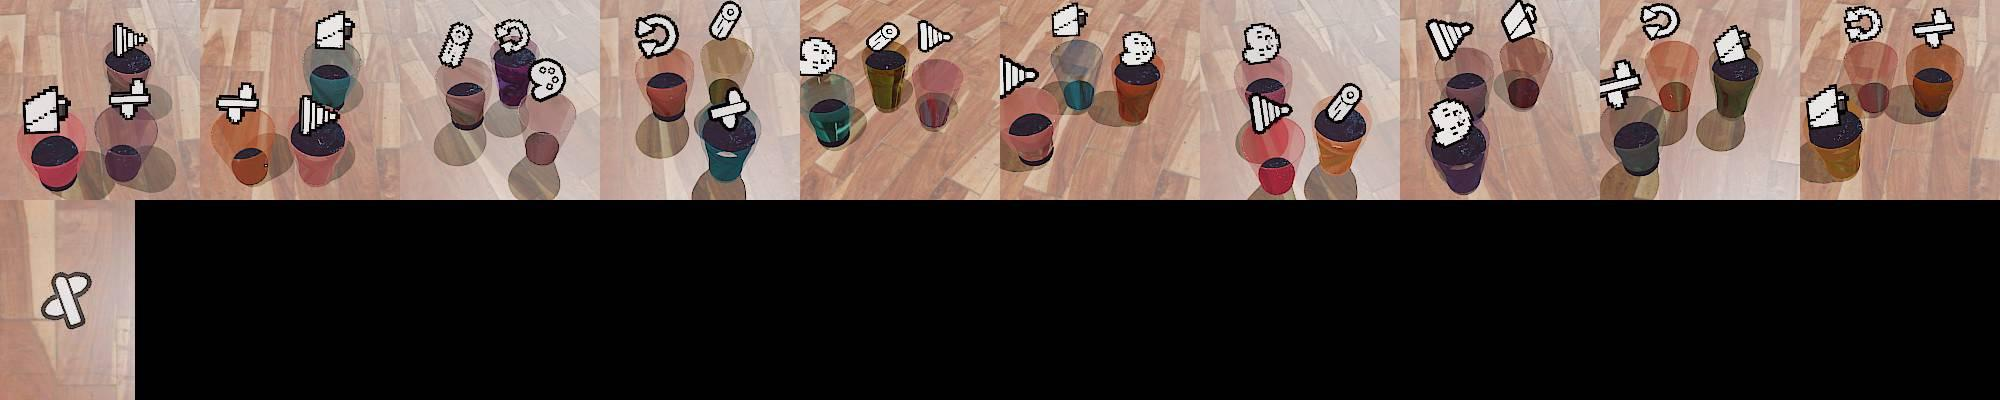icon: (40, 271, 93, 329), (22, 83, 71, 135), (1429, 96, 1476, 148), (1597, 59, 1643, 108), (1426, 18, 1476, 62), (1805, 83, 1851, 130), (1247, 88, 1293, 134), (634, 14, 679, 60), (298, 92, 342, 136), (1911, 8, 1957, 50), (217, 80, 260, 124), (1240, 22, 1282, 66), (1000, 54, 1040, 99), (708, 85, 750, 127), (1712, 24, 1754, 65), (108, 78, 152, 117), (528, 57, 566, 102), (439, 20, 473, 69), (1500, 0, 1540, 42), (1324, 82, 1364, 124), (314, 10, 353, 52), (1639, 3, 1681, 41), (798, 36, 838, 75), (1843, 5, 1883, 45), (1050, 1, 1091, 38), (110, 22, 149, 59), (492, 19, 533, 55), (1119, 31, 1157, 68), (708, 1, 742, 42), (916, 19, 954, 54), (865, 20, 902, 52)
